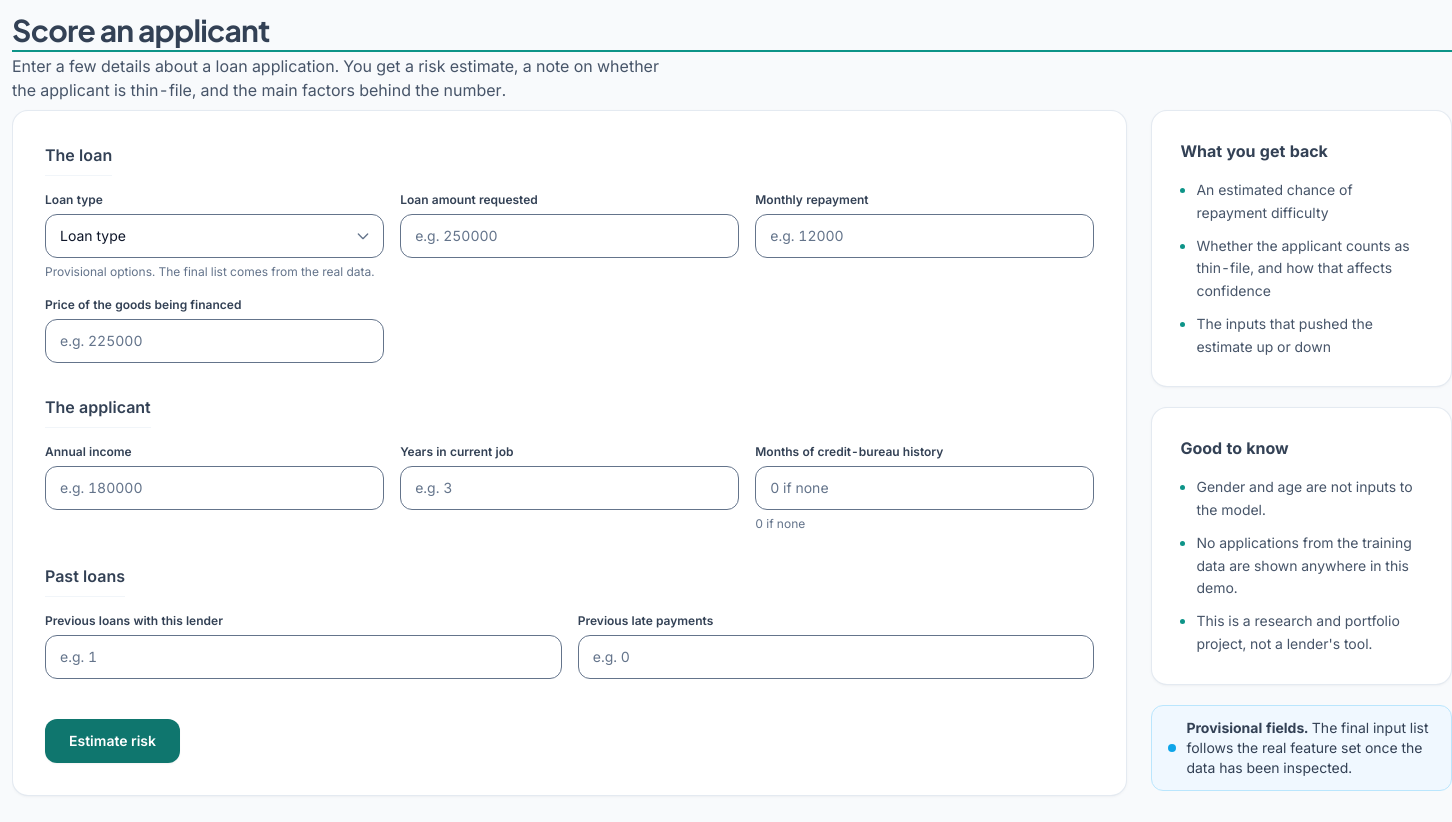
Test: Score form (spec 6.2) › uses the schema maximum when one is supplied
Expected: the dropdown labelled "Loan type" is shown, [45, 214, 384, 258]
Type "11" into the number field labelled "Loan amount requested". click: point(570, 236)
box: [400, 214, 739, 258]
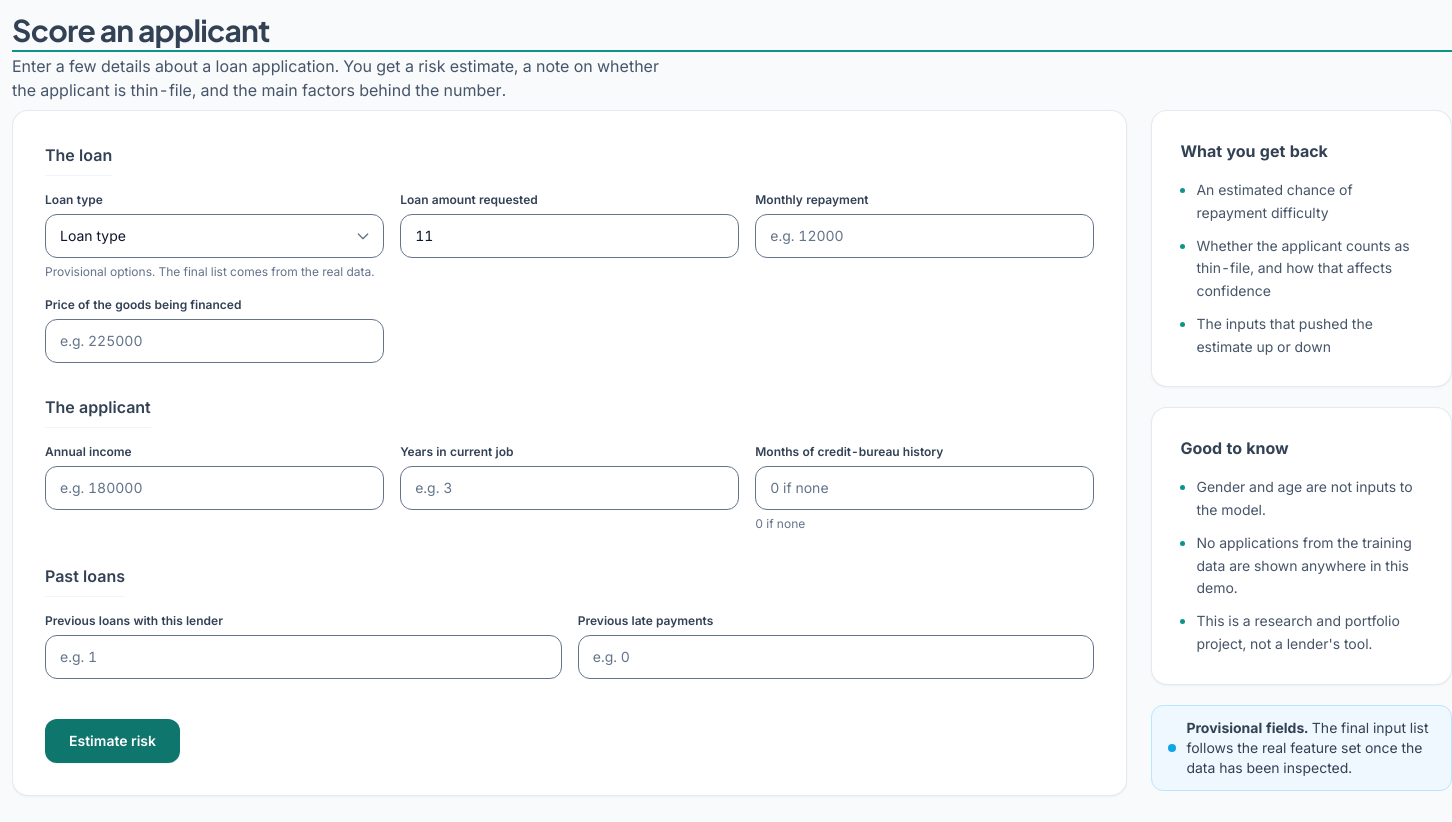
Leave the number field labelled "Loan amount requested", box [400, 214, 739, 258]
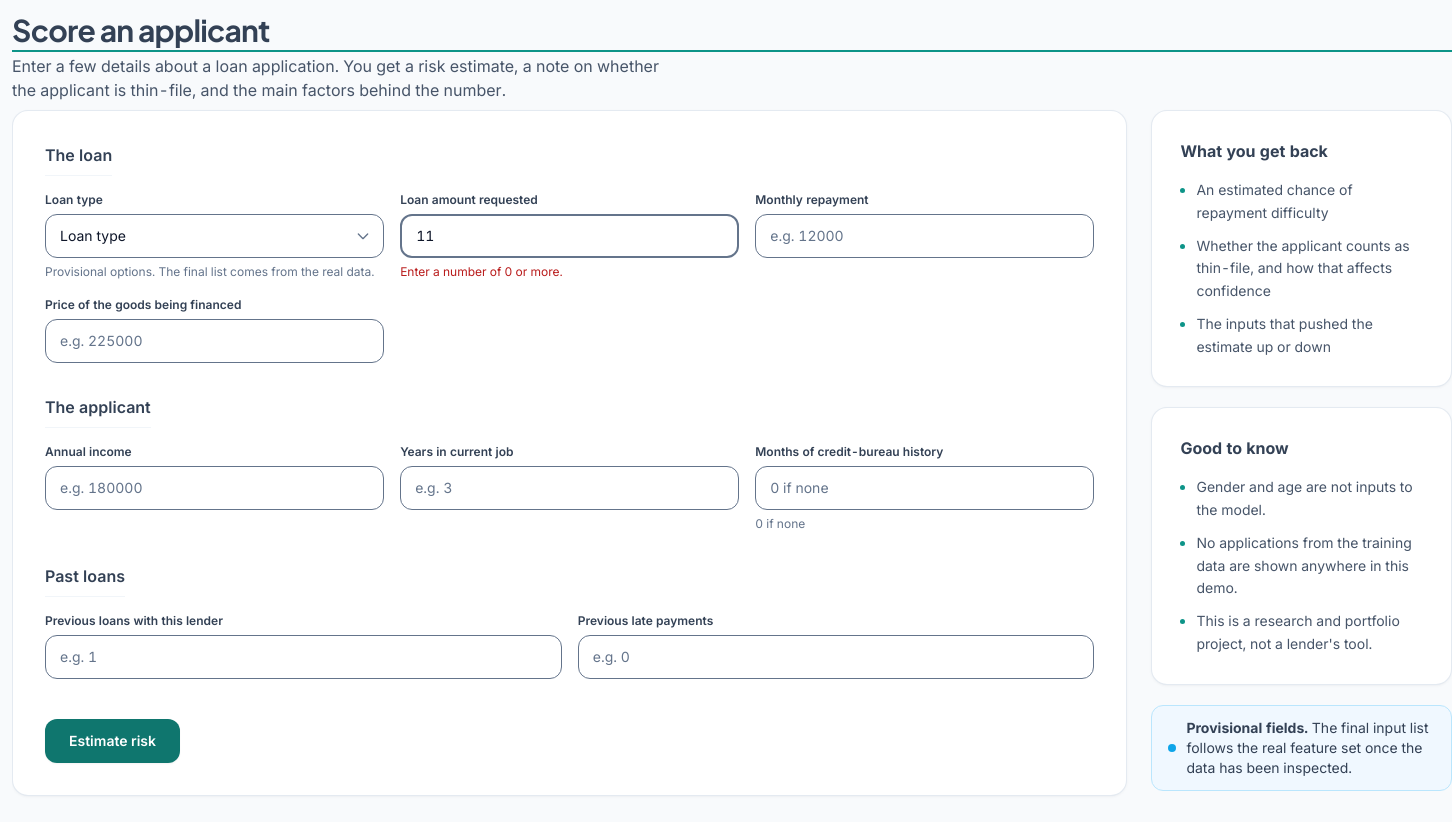
Now the message reads "Enter a number of 0 or more.", box [400, 264, 563, 279]
Replace the text in the number field labelled "Loan amount requested" with "5". click: point(570, 236)
box: [400, 214, 739, 258]
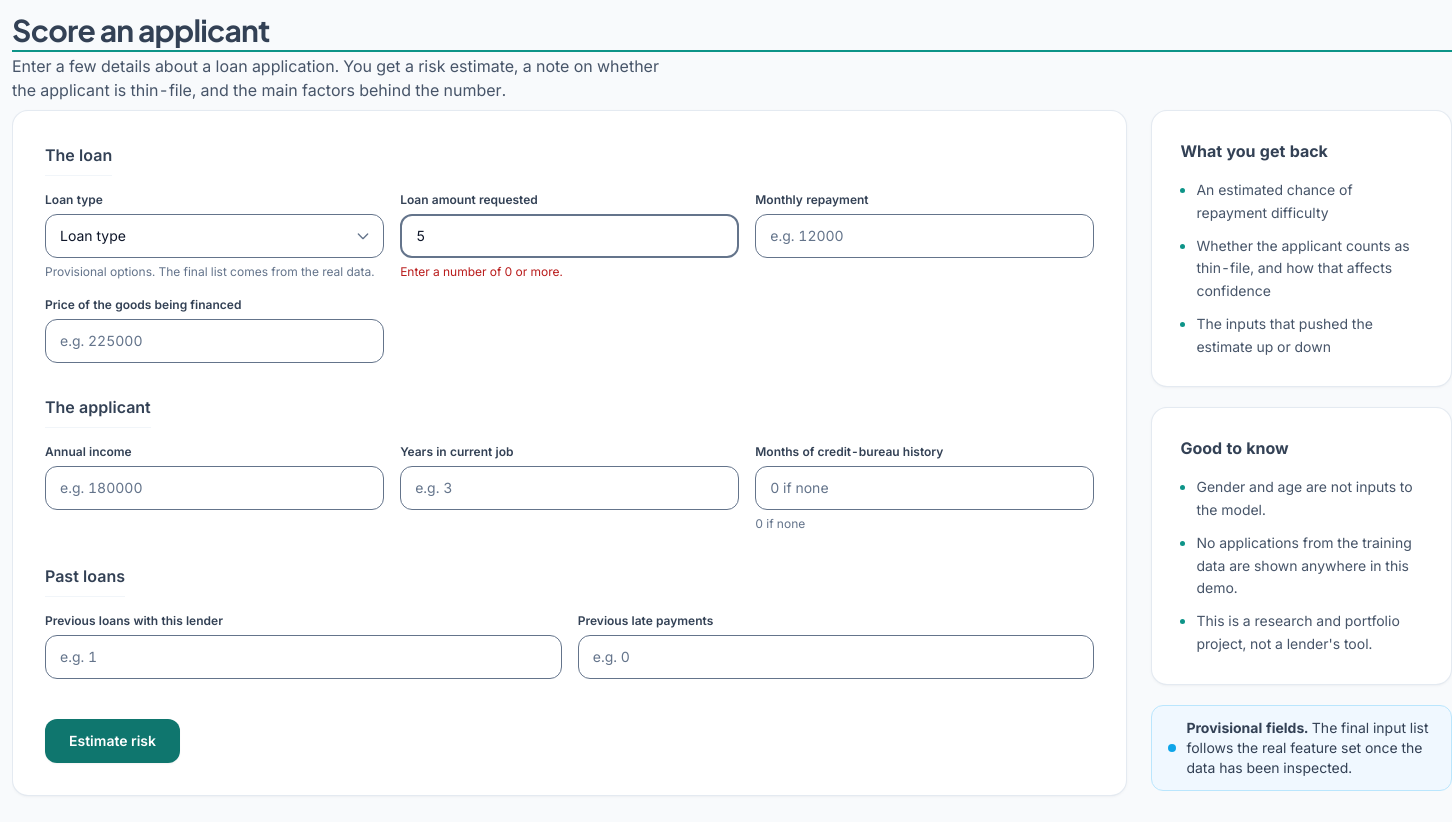
Leave the number field labelled "Loan amount requested", box [400, 214, 739, 258]
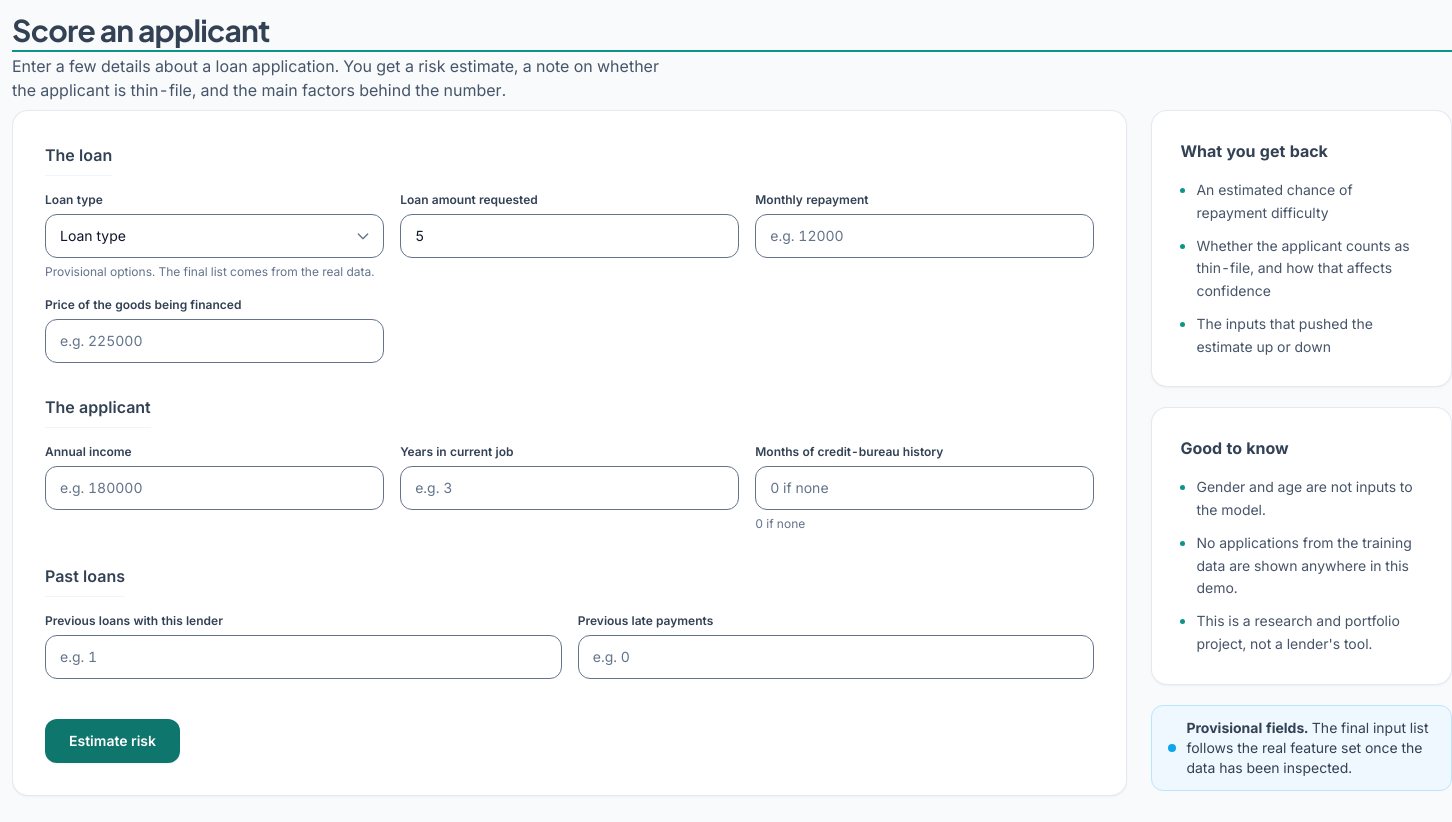
Now the message "Enter a number of 0 or more." is gone
